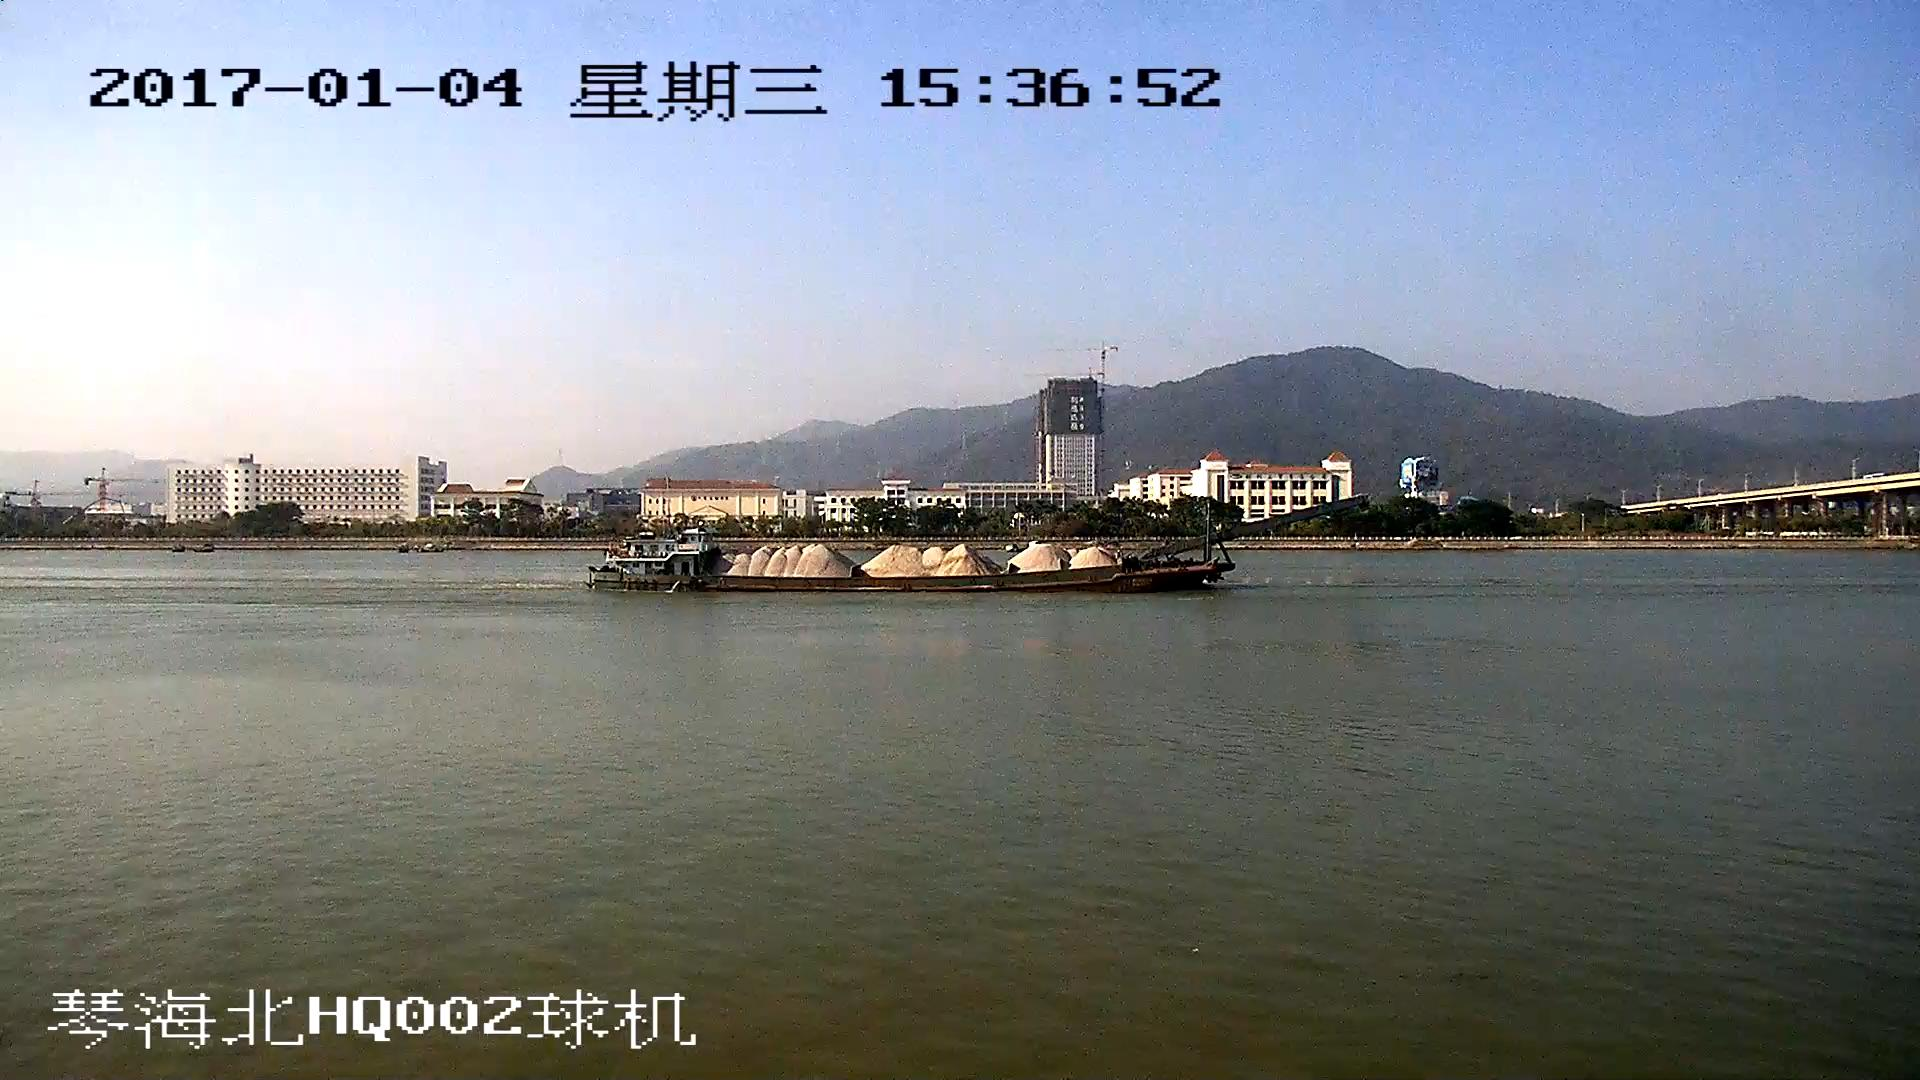ore carrier: (587, 498, 1365, 596)
